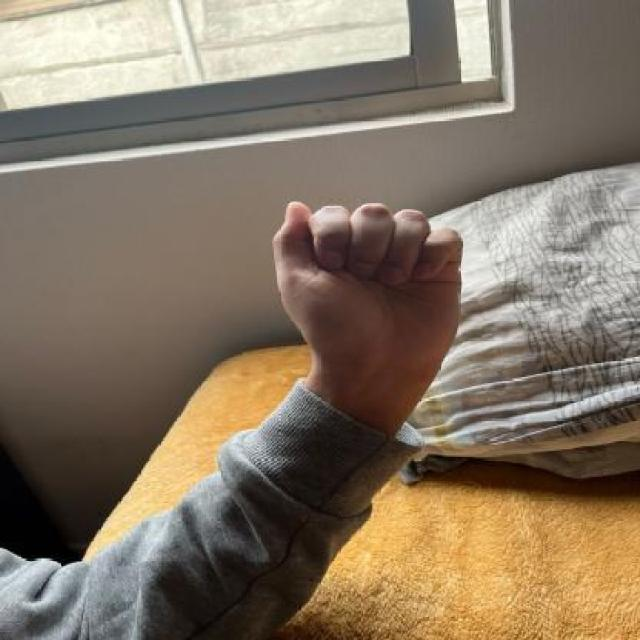A: (265, 191, 478, 377)
